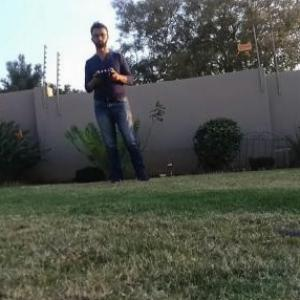follow: (81, 16, 156, 186)
